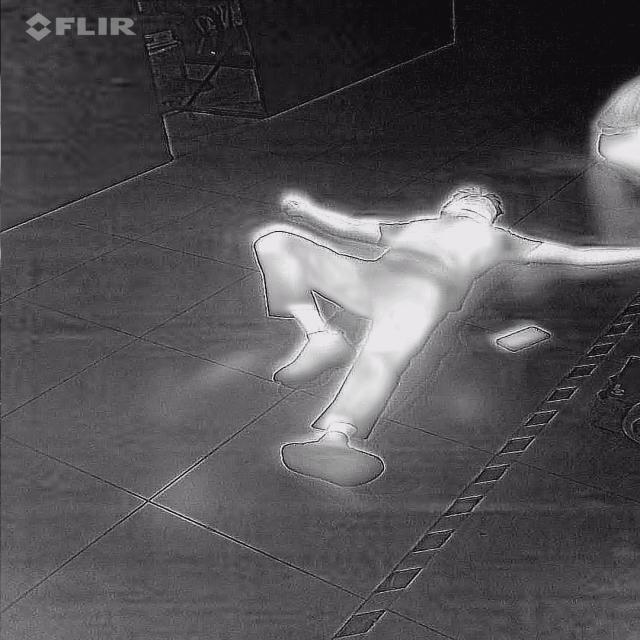Victim: (247, 184, 634, 494), (584, 52, 640, 184)
